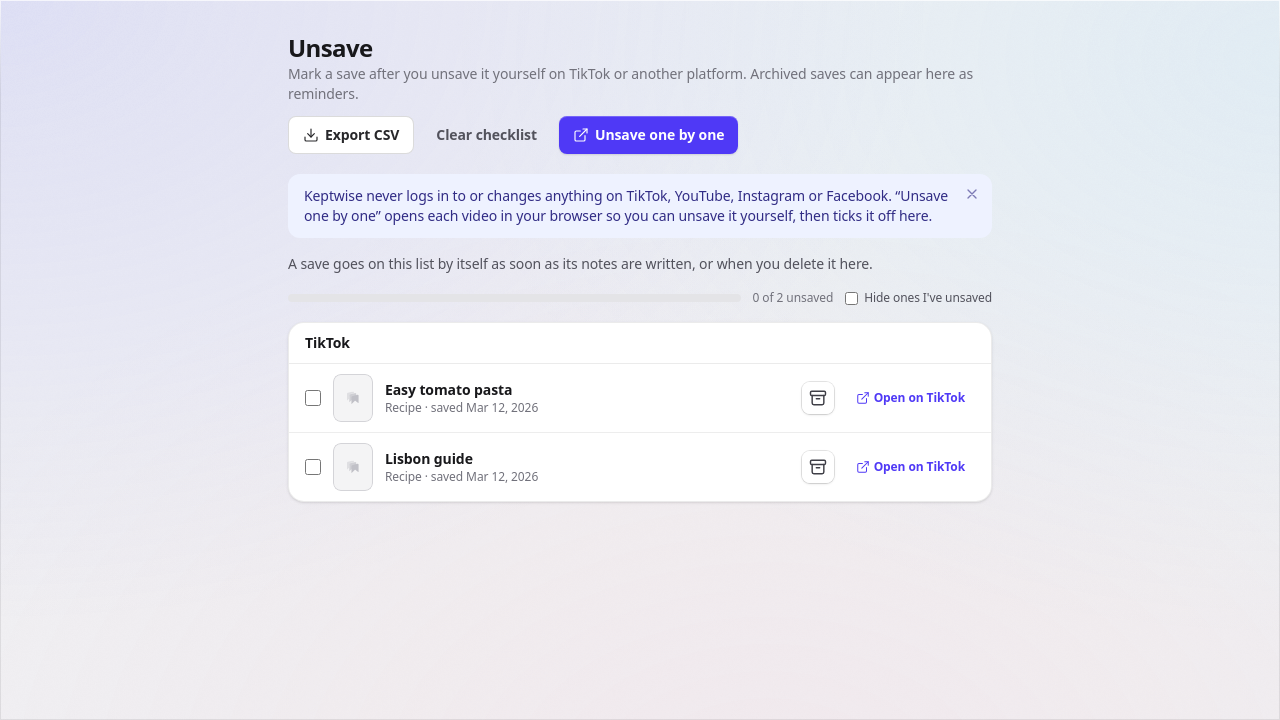
Scenario: unsave one by one opens each save in the browser and ticks it off
This screenshot has width=1280, height=720.
Click the button "Unsave one by one".
click(649, 135)  # box [559,116,738,154]
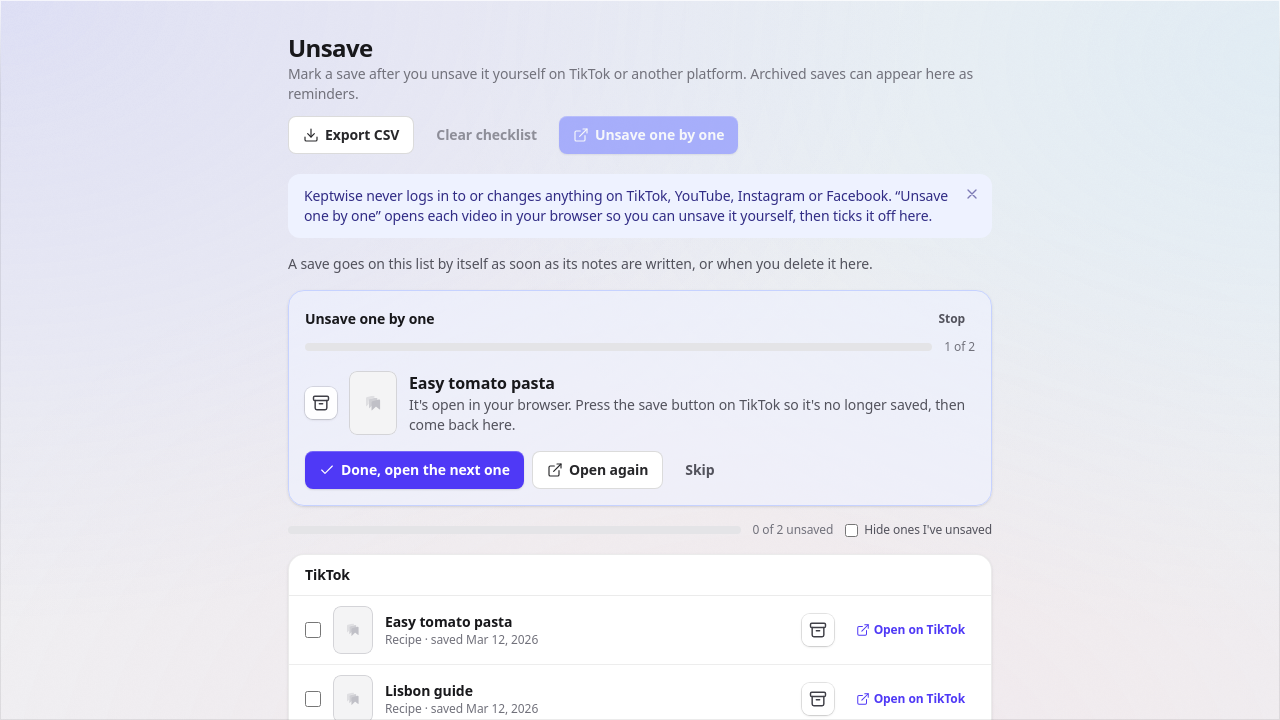
Check: the text "1 of 2" is shown, box [944,339,975,355]
Click the button "Done, open the next one".
click(414, 470)  # box [305,451,524,489]
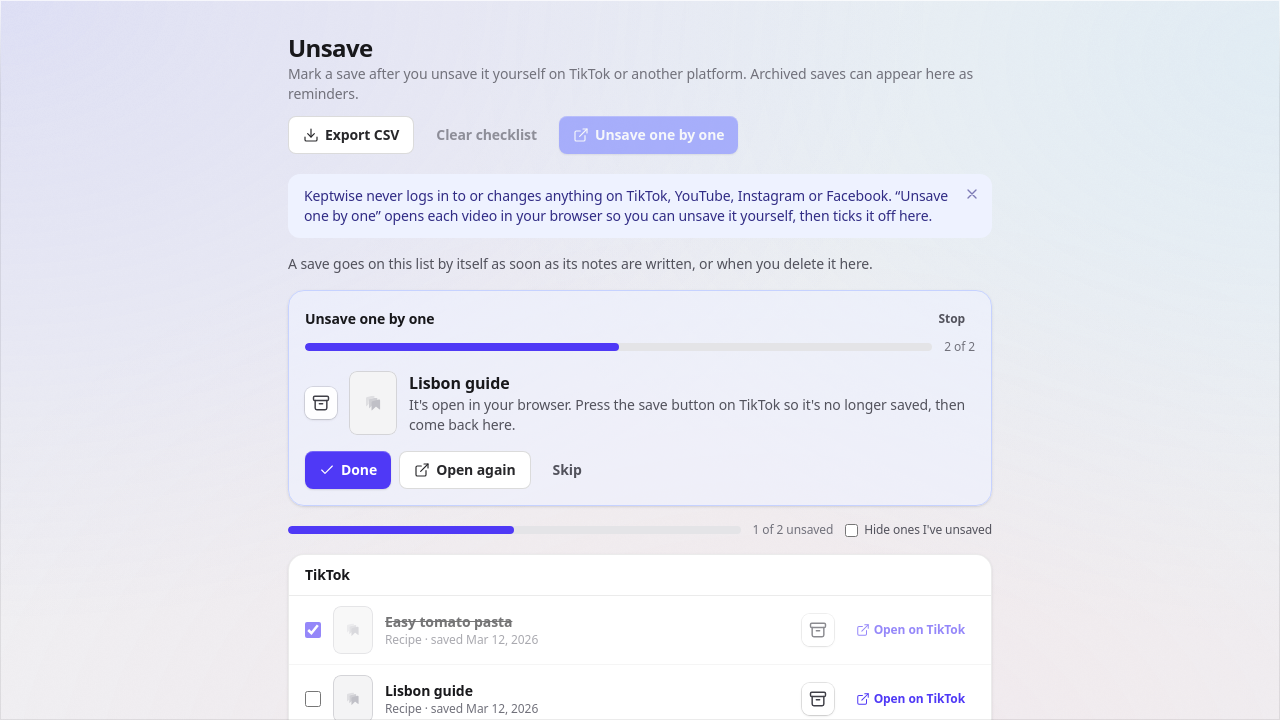
Check: the text "2 of 2" is shown, box [944,339,975,355]
Check: the text "1 of 2 unsaved" is shown, box [752,522,833,538]
Click the button "Done".
click(348, 470)  # box [305,451,391,489]
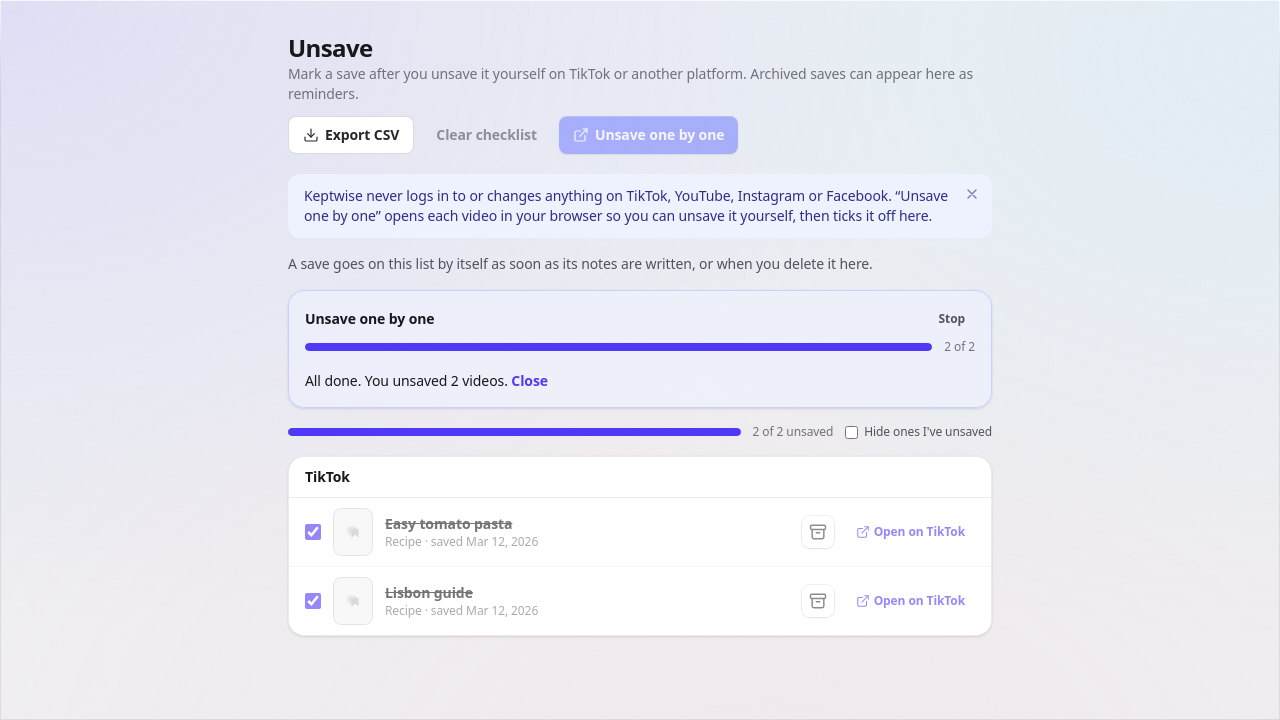
Check: the text "All done. You unsaved 2 videos. Close" is shown, box [305,371,548,391]
